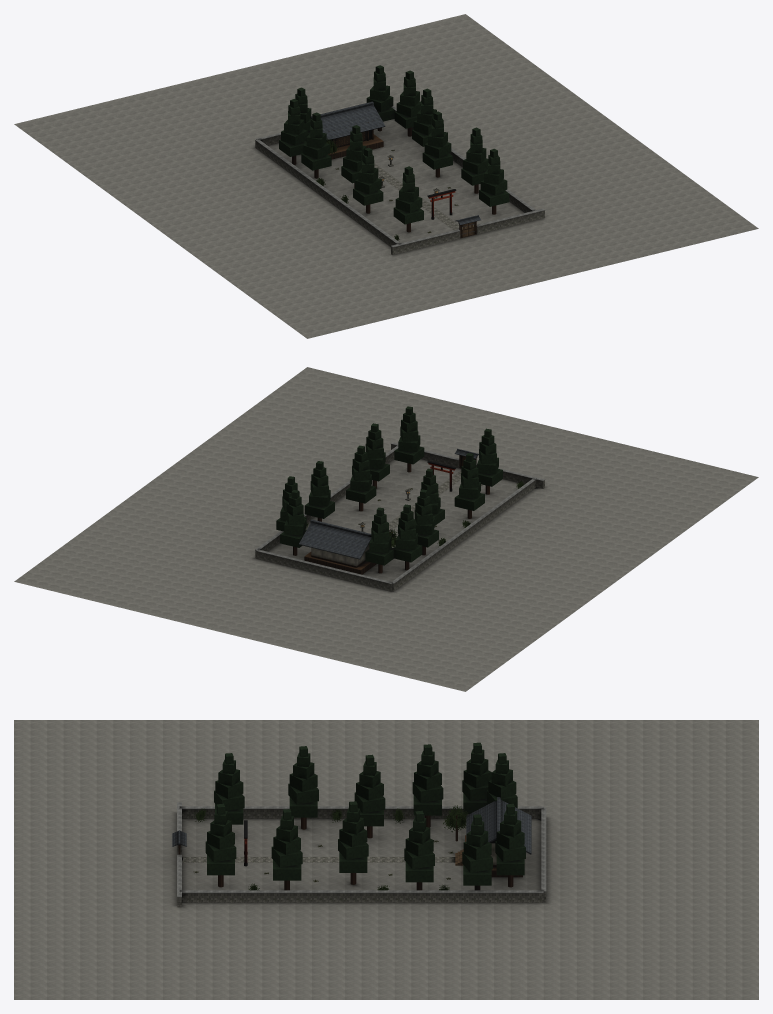
Rendered from shrine.glb.
3 views of the same model, one above another, from view 1: azimuth 30°, elevation 25°; view 2: azimuth 150°, elevation 25°; view 3: azimuth 270°, elevation 25° (orthographic). The views are drawn at different scales.
Visible parts, largest first — view 1: grounds, haiden.072, cedar.046, cedar.050, cedar.044, cedar.043, cedar.048, cedar.053, cedar.049, cedar.054, cedar.052, cedar.045 (+1 smaller); view 2: grounds, haiden.072, cedar.048, cedar.050, cedar.044, cedar.047, cedar.051, cedar.053, cedar.043, cedar.052, cedar.046, cedar.049 (+1 smaller); view 3: grounds, cedar.052, cedar.050, cedar.051, cedar.048, cedar.049, cedar.044, cedar.054, cedar.046, haiden.072, cedar.045, cedar.043 (+3 smaller).
Part boxes in pixels (left/top/right/bottom): grounds: left=14, top=14, right=758, bottom=338; haiden.072: left=310, top=101, right=385, bottom=159; cedar.046: left=301, top=112, right=331, bottom=178; cedar.050: left=422, top=111, right=452, bottom=177; cedar.044: left=353, top=147, right=383, bottom=213; cedar.043: left=393, top=166, right=423, bottom=232; cedar.048: left=479, top=148, right=509, bottom=214; cedar.053: left=279, top=99, right=307, bottom=164; cedar.049: left=461, top=127, right=488, bottom=193; cedar.054: left=394, top=70, right=420, bottom=136; cedar.052: left=366, top=65, right=394, bottom=131; cedar.045: left=341, top=125, right=366, bottom=188; grounds: left=14, top=367, right=758, bottom=691; haiden.072: left=299, top=519, right=376, bottom=574; cedar.048: left=394, top=406, right=424, bottom=472; cedar.050: left=346, top=445, right=376, bottom=511; cedar.044: left=454, top=453, right=484, bottom=518; cedar.047: left=365, top=507, right=394, bottom=573; cedar.051: left=304, top=461, right=334, bottom=521; cedar.053: left=393, top=504, right=422, bottom=570; cedar.043: left=477, top=428, right=502, bottom=494; cedar.052: left=280, top=490, right=306, bottom=555; cedar.046: left=414, top=489, right=438, bottom=555; cedar.049: left=365, top=423, right=389, bottom=488; grounds: left=14, top=720, right=758, bottom=999; cedar.052: left=495, top=803, right=525, bottom=887; cedar.050: left=338, top=801, right=368, bottom=884; cedar.051: left=404, top=810, right=434, bottom=890; cedar.048: left=205, top=803, right=236, bottom=887; cedar.049: left=271, top=809, right=302, bottom=890; cedar.044: left=288, top=746, right=318, bottom=829; cedar.054: left=462, top=814, right=492, bottom=890; cedar.046: left=412, top=744, right=443, bottom=827; haiden.072: left=455, top=797, right=531, bottom=877; cedar.045: left=354, top=754, right=385, bottom=838; cedar.043: left=214, top=753, right=244, bottom=831.
Size of the model in its own units: 80 by 10.75 by 90.
Materials: 20 (20 with a texture image).
